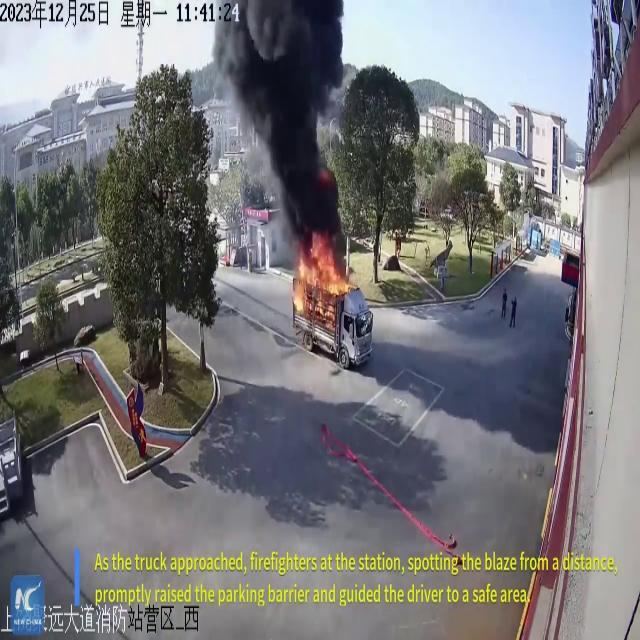Fire: (289, 237, 355, 321)
Smoke: (216, 0, 354, 247)
